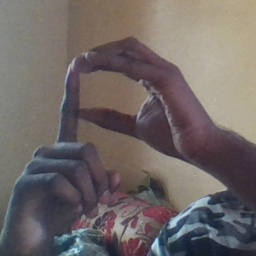P: (26, 33, 211, 214)
